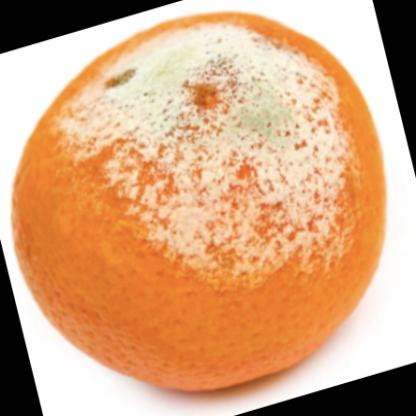rotten: (11, 14, 390, 391)
